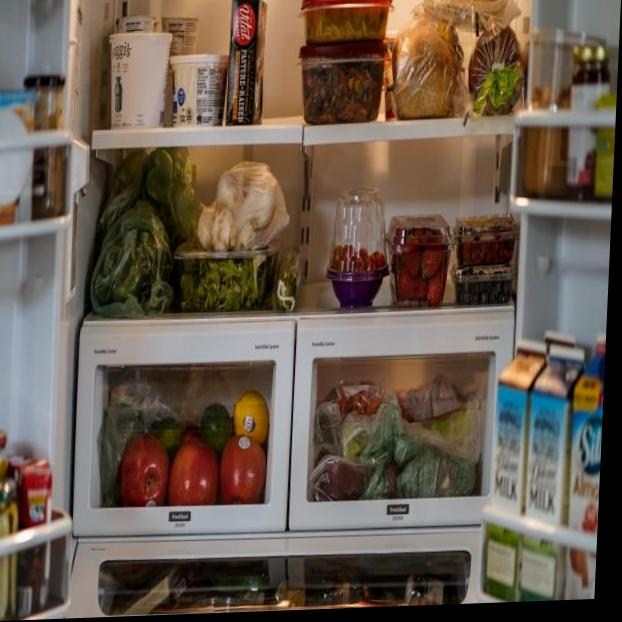apple: (219, 436, 267, 503), (120, 435, 166, 504), (171, 441, 218, 500)
bread: (394, 23, 466, 115), (469, 25, 524, 112)
lemon: (232, 393, 270, 444)
milk: (525, 346, 575, 526), (567, 350, 605, 532), (493, 343, 533, 514)
parsley: (202, 257, 259, 310)
strawberries: (396, 269, 426, 300), (422, 249, 443, 276), (401, 247, 420, 275), (426, 278, 444, 306)
yoghurt: (106, 30, 172, 128), (166, 52, 230, 128)
